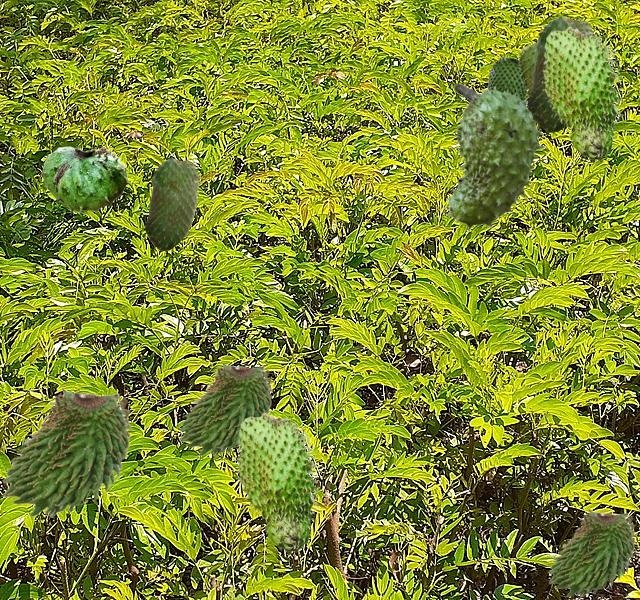guyabano: (1, 386, 131, 516), (444, 83, 546, 231), (235, 412, 319, 554), (541, 26, 622, 162), (178, 361, 272, 455), (526, 15, 596, 133), (547, 508, 635, 596), (41, 146, 128, 214), (144, 157, 199, 251), (487, 56, 527, 99), (518, 41, 536, 95)
